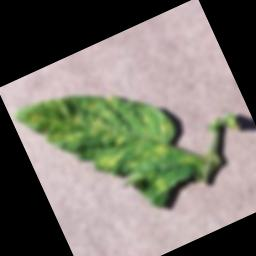Leaf_Mold: (12, 53, 203, 248)
